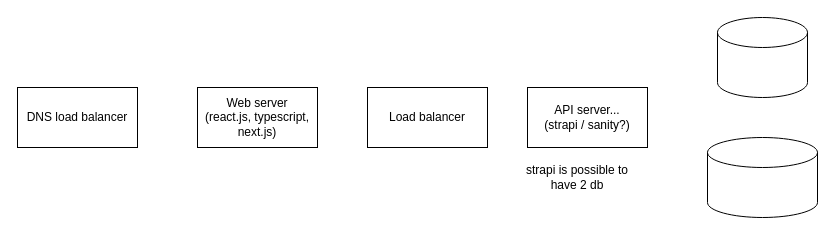
This 835x235 diagram has some shape labels left out. The centre of each missing label's shape, as x and y in pixels:
blob for image/video/files: pixel 762 177
RDB: pixel 762 57
